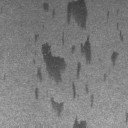red iron: (62, 32, 94, 108), (34, 32, 66, 100), (66, 0, 88, 30), (50, 98, 64, 118), (42, 2, 55, 18), (73, 116, 87, 128), (115, 22, 123, 42), (110, 52, 119, 66), (102, 73, 107, 82), (126, 114, 128, 124)
